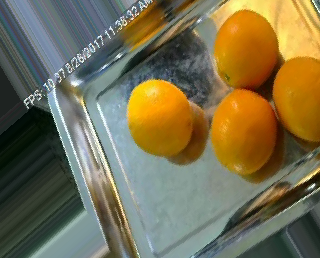Orange: (210, 89, 278, 173), (214, 8, 280, 88), (126, 78, 191, 156), (272, 56, 319, 141)
